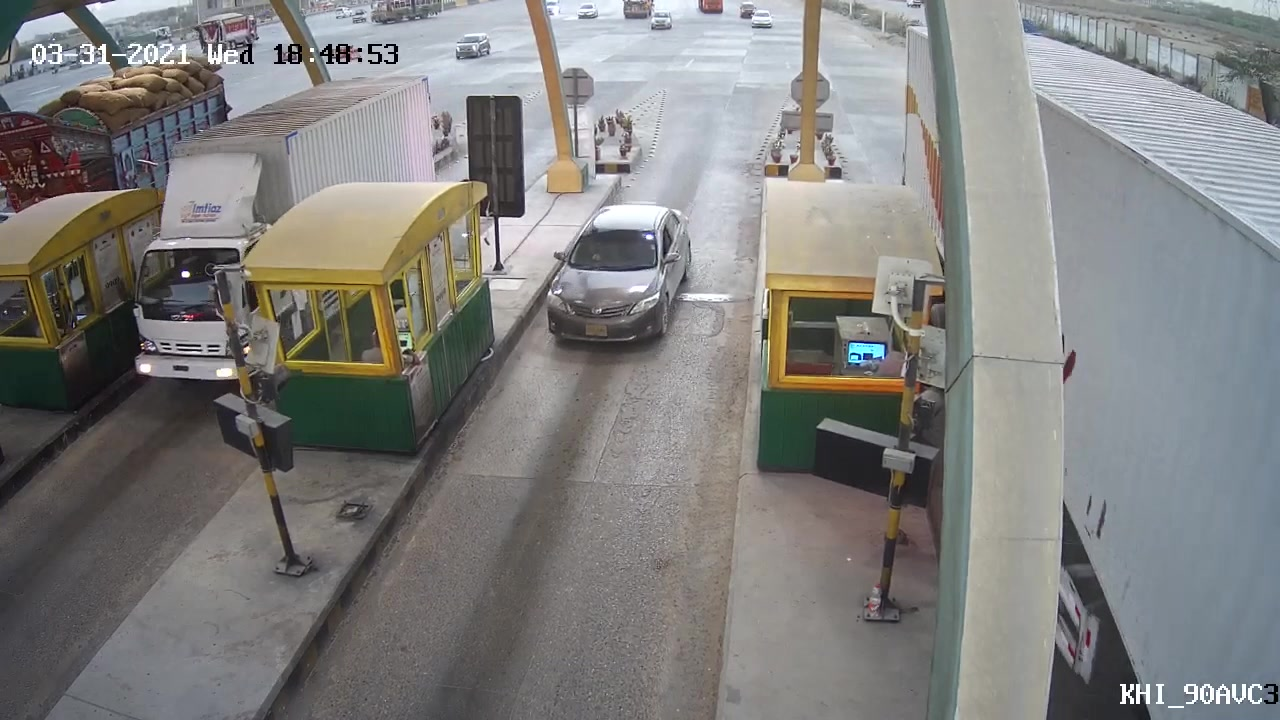F1: (537, 193, 700, 352)
